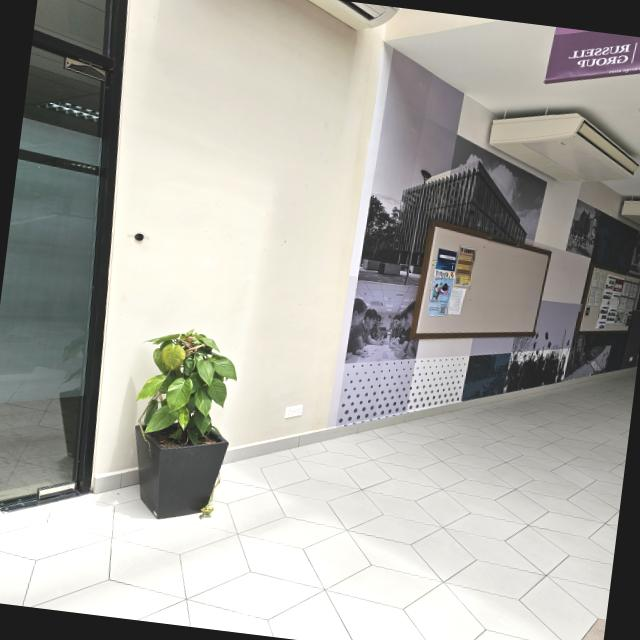footpath: (223, 358, 632, 640)
obstacle: (104, 323, 241, 525)
